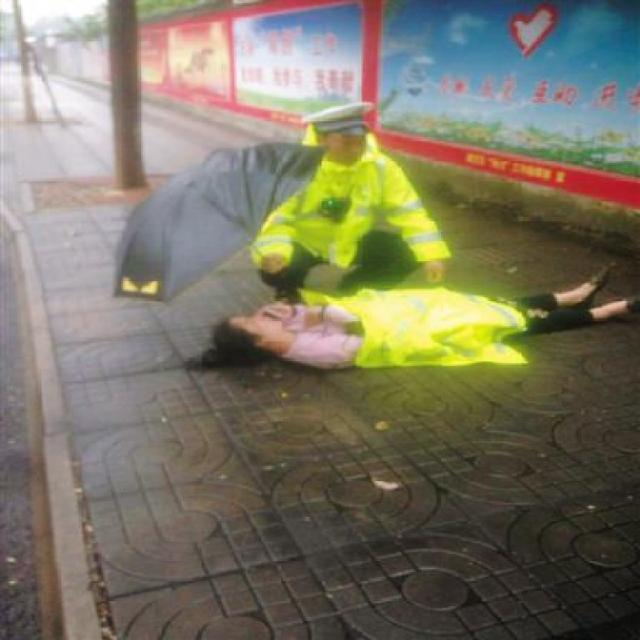fall: (176, 264, 638, 378)
